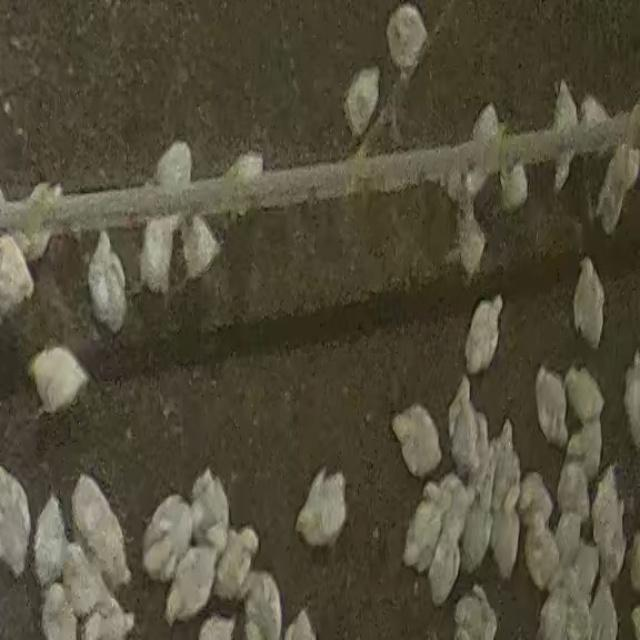chicken: (69, 470, 133, 591), (162, 540, 220, 624), (28, 344, 90, 415), (86, 230, 128, 334), (142, 495, 192, 582), (388, 404, 445, 478), (296, 466, 348, 547), (458, 289, 508, 373), (597, 143, 640, 236), (403, 482, 448, 570), (0, 465, 34, 577), (388, 5, 434, 82), (447, 378, 482, 477), (572, 255, 606, 348), (0, 233, 36, 318), (191, 468, 230, 546), (533, 365, 569, 448), (36, 489, 66, 588), (522, 511, 559, 590), (182, 212, 223, 280), (462, 485, 494, 572), (342, 66, 380, 139), (562, 362, 604, 428), (492, 483, 520, 579), (452, 585, 498, 640), (243, 574, 281, 638), (539, 585, 579, 638), (154, 141, 193, 192)
